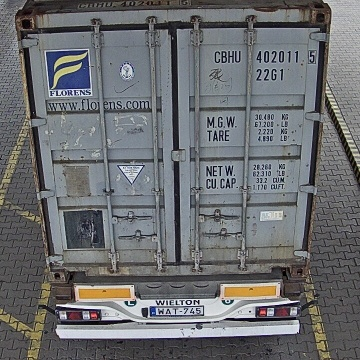serial_id: (215, 50, 316, 62)
